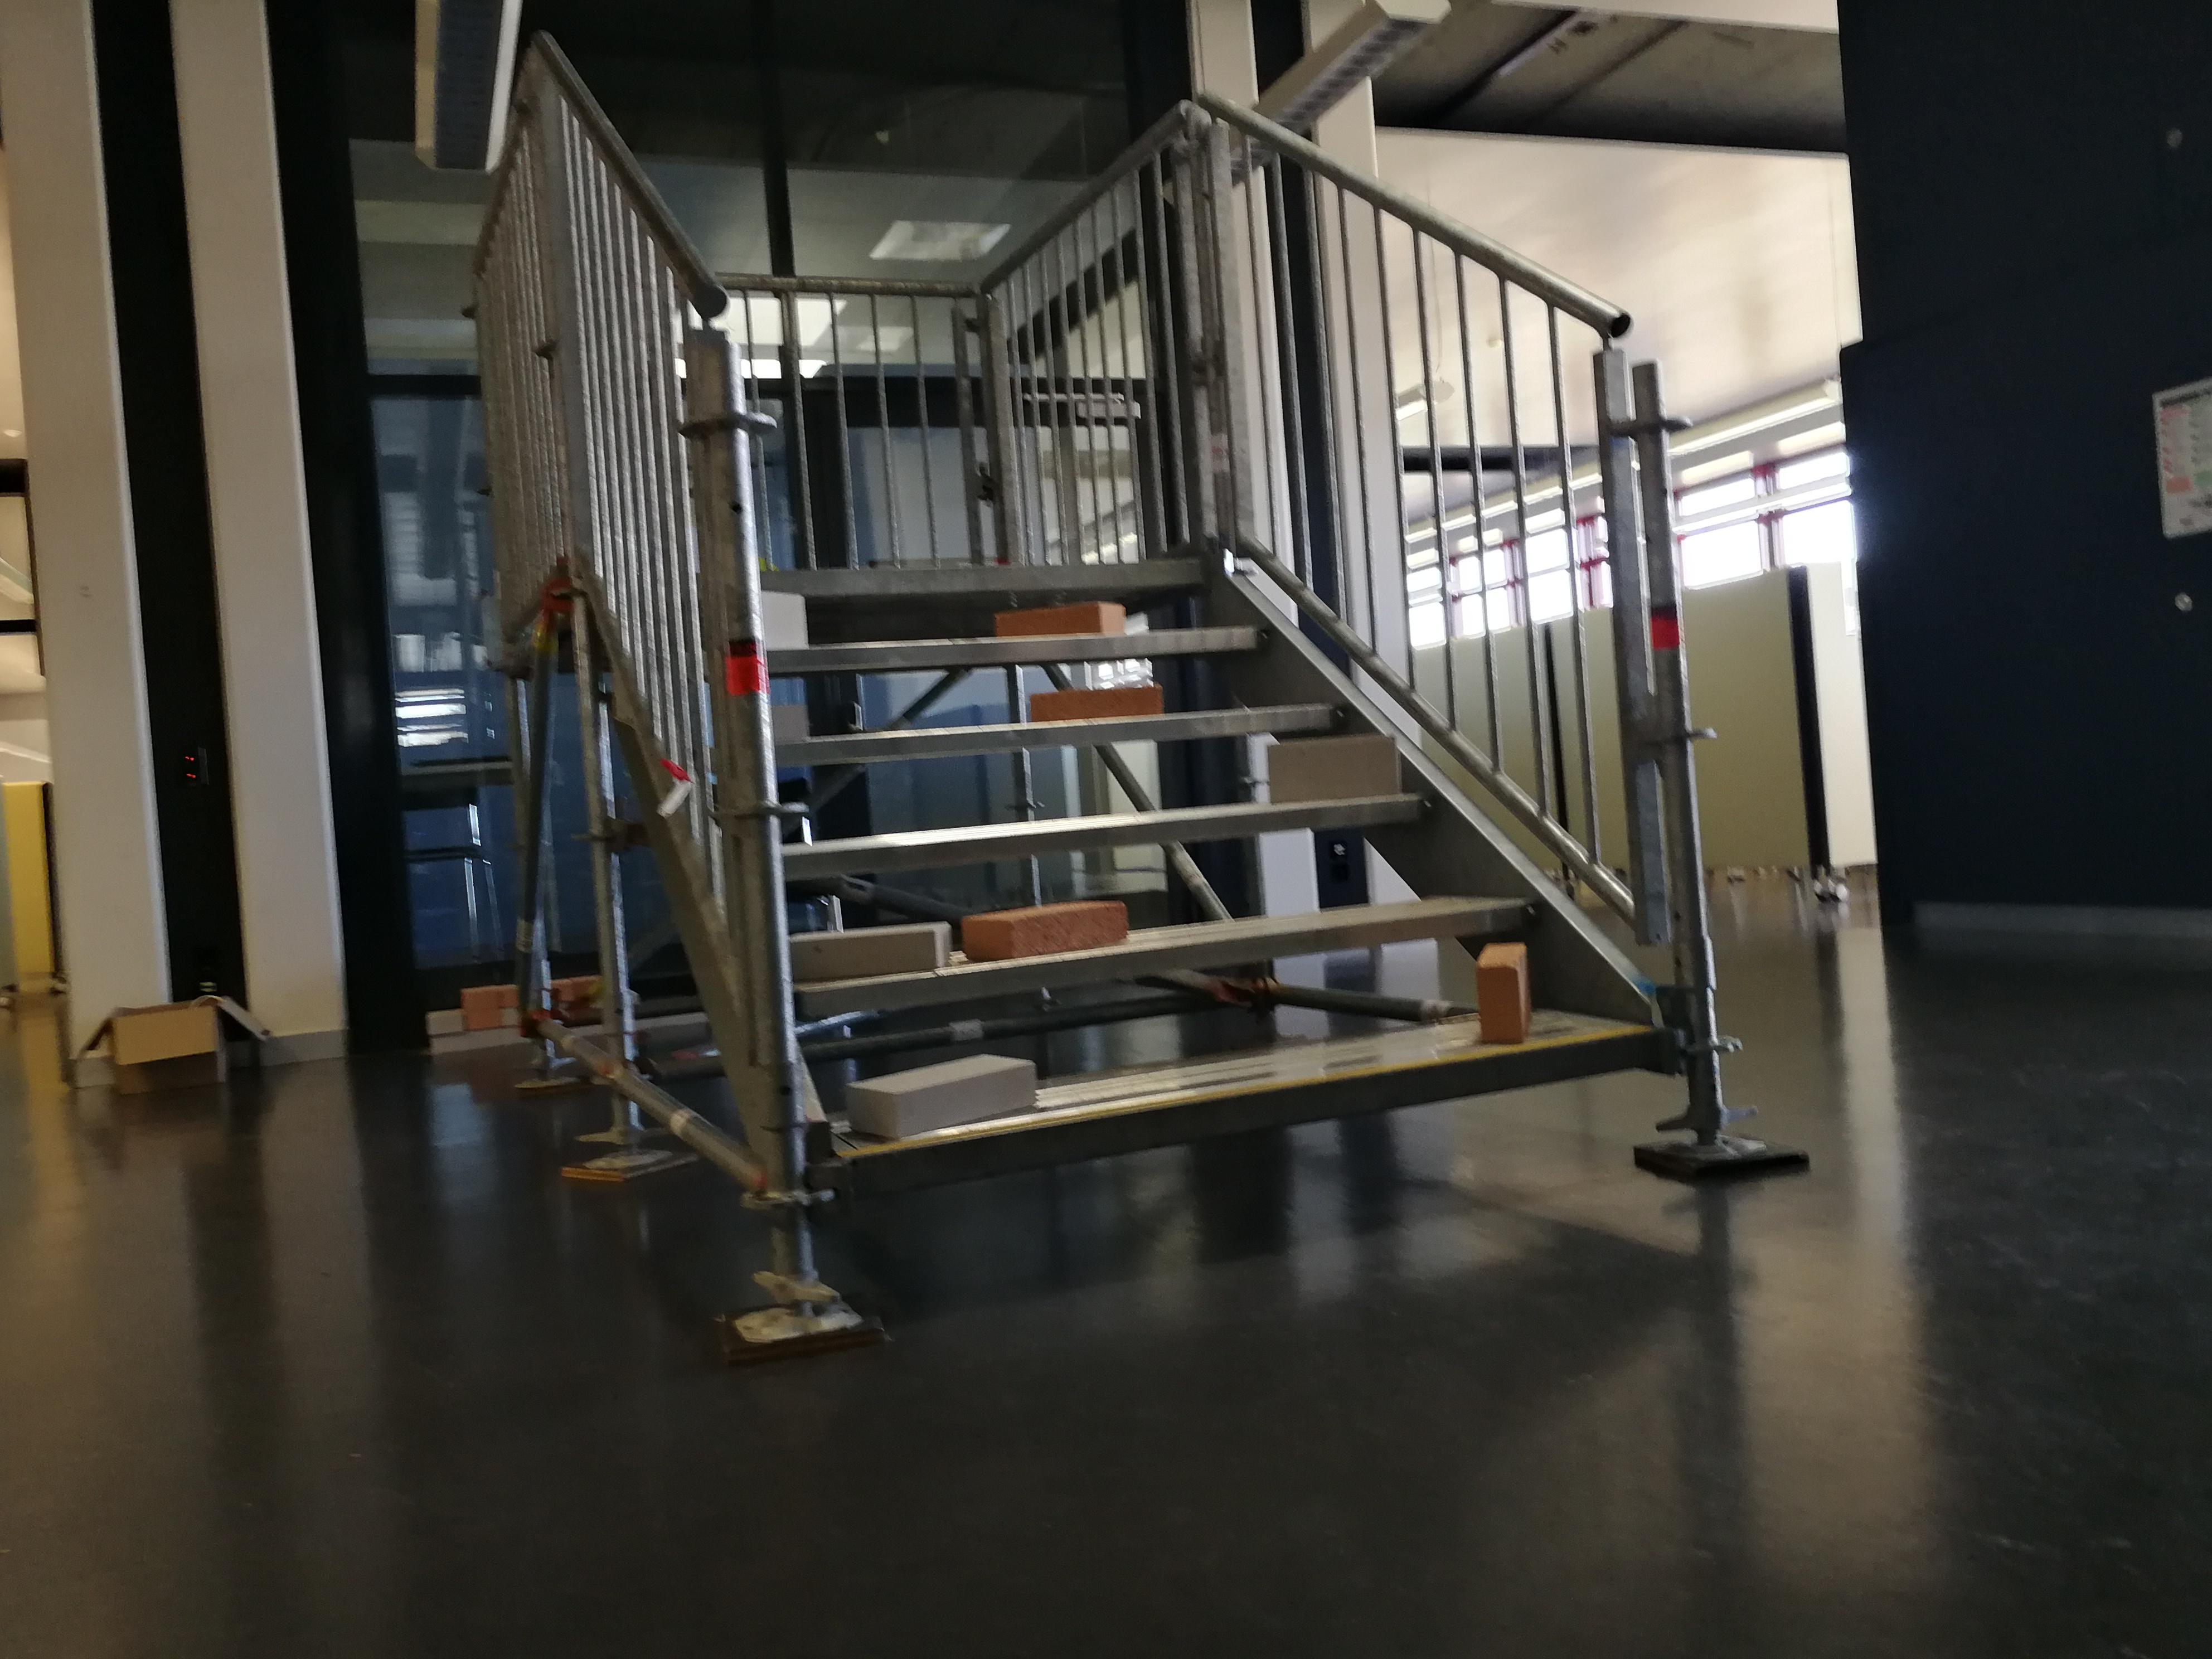brick: (846, 1054, 1035, 1134), (1264, 737, 1397, 803), (960, 904, 1125, 957), (792, 925, 949, 974), (1479, 939, 1527, 1040), (1031, 687, 1158, 721), (991, 601, 1122, 634), (763, 589, 805, 650), (773, 709, 805, 744)
edge: (850, 1035, 1653, 1188), (794, 897, 1526, 1016), (782, 789, 1433, 882), (772, 702, 1341, 762), (761, 626, 1266, 674), (749, 559, 1202, 589)
stairs: (707, 7, 1813, 1370)
steps: (745, 540, 1669, 1199)
